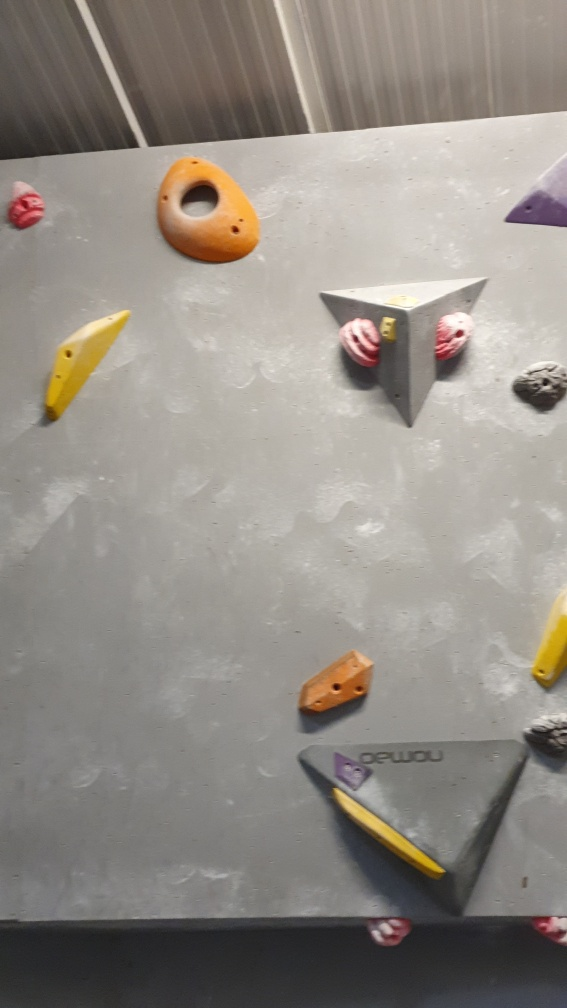Jug: (510, 360, 567, 416), (431, 303, 473, 368), (337, 317, 384, 371), (4, 177, 53, 224)
Pinch: (37, 301, 133, 427), (296, 647, 375, 718), (530, 588, 567, 691)
Pocket: (153, 153, 264, 267)
